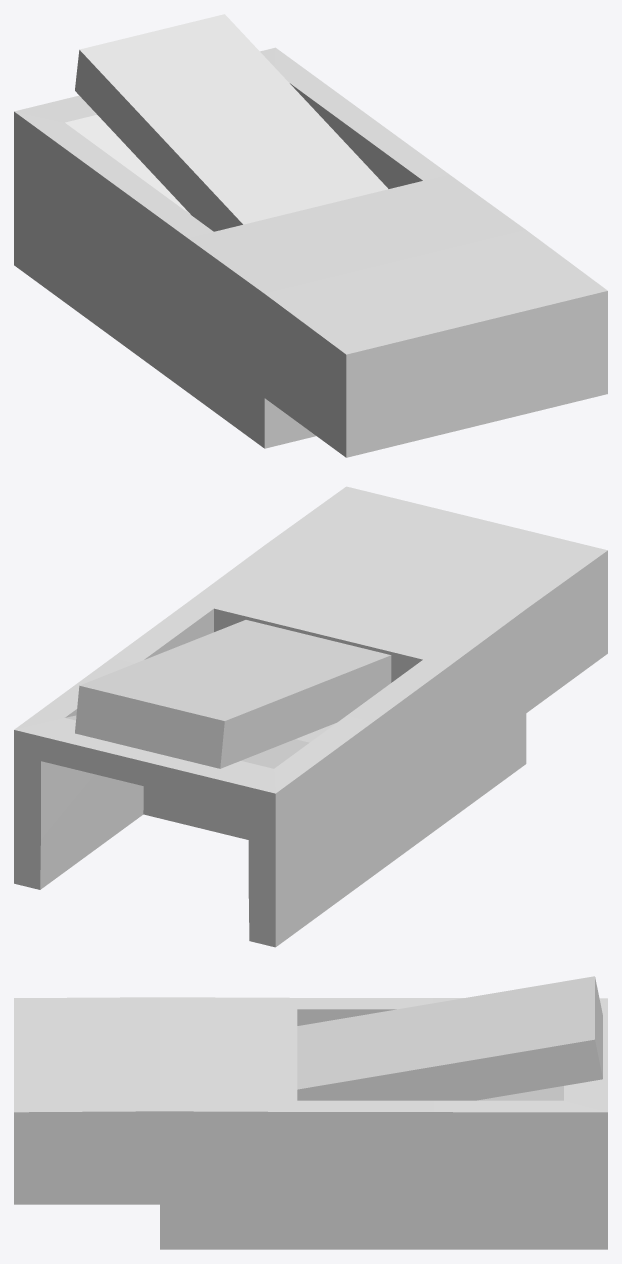
3 renders of one model, top to bottom at view 1: azimuth 30°, elevation 25°; view 2: azimuth 150°, elevation 25°; view 3: azimuth 270°, elevation 25°, orthographic. The views are drawn at different scales.
Parts seen in each view (by area): view 1: rj45; view 2: rj45; view 3: rj45.
Part boxes in pixels (x1,y1,x2,y2): rj45: [14, 14, 607, 457]; rj45: [14, 486, 607, 947]; rj45: [14, 976, 607, 1249].
Size of the model in its own units: 25.75 by 19.45 by 56.66.
